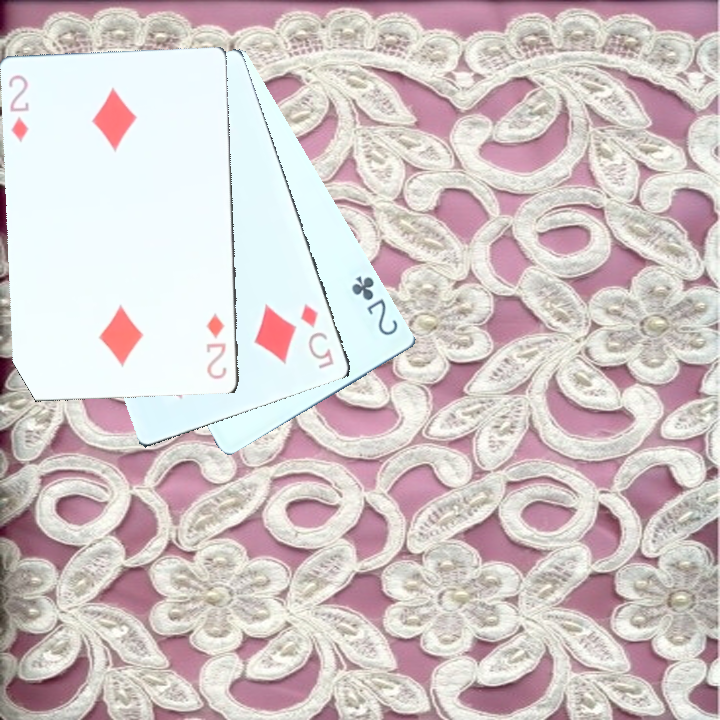2c: (347, 271, 401, 339)
2d: (4, 70, 32, 144), (202, 309, 229, 382)
5d: (296, 299, 337, 372)
